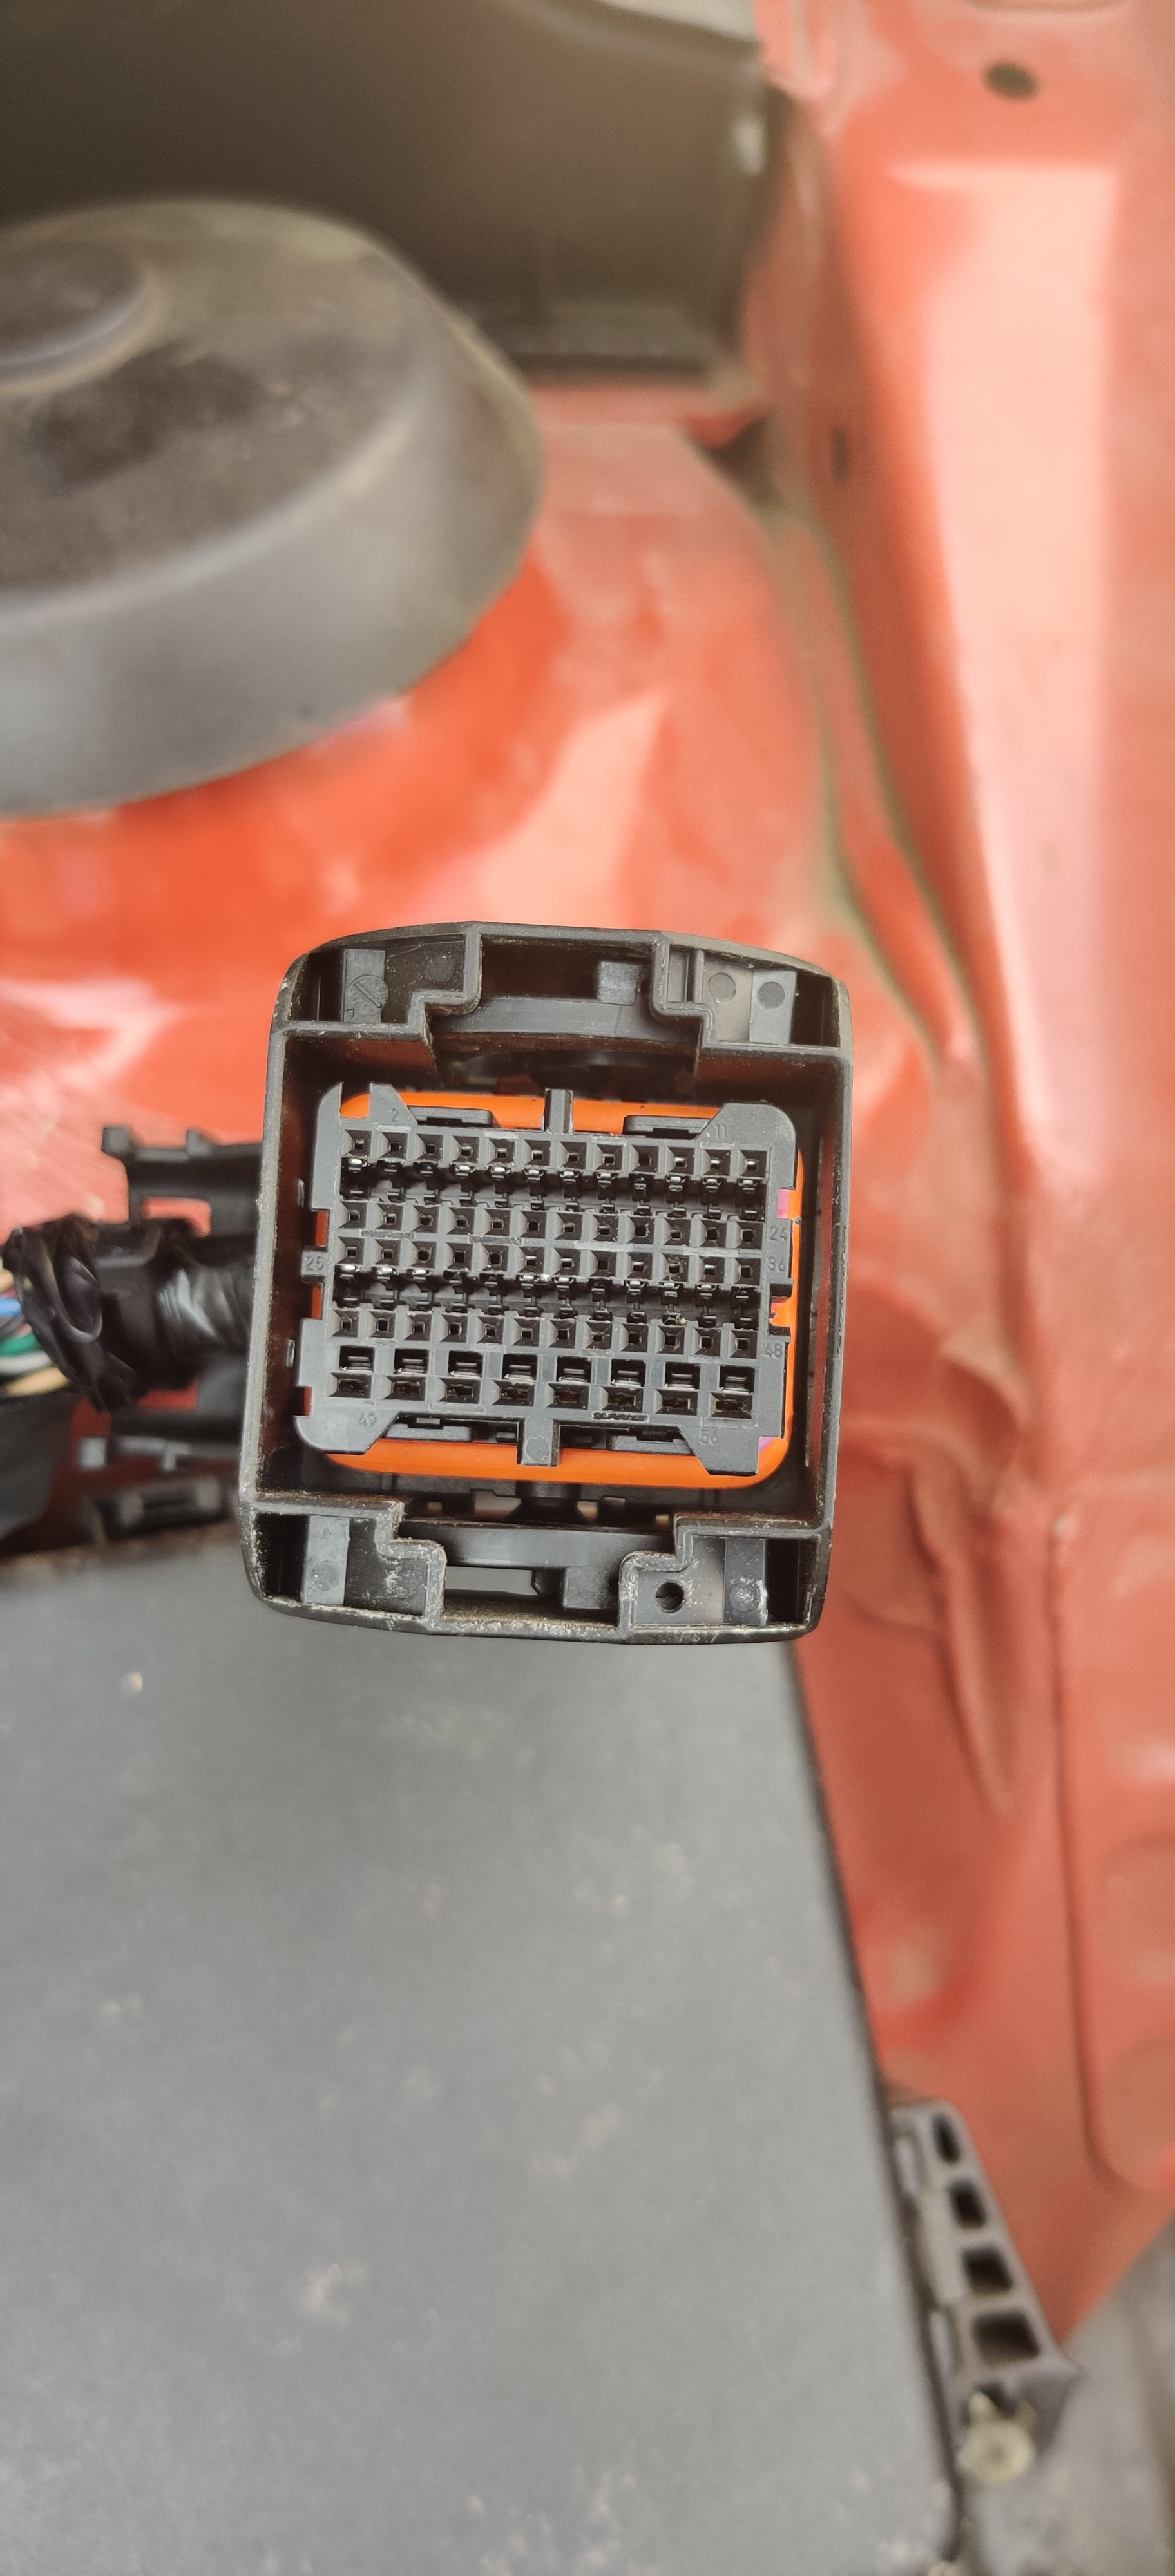connector: (210, 851, 927, 1710)
